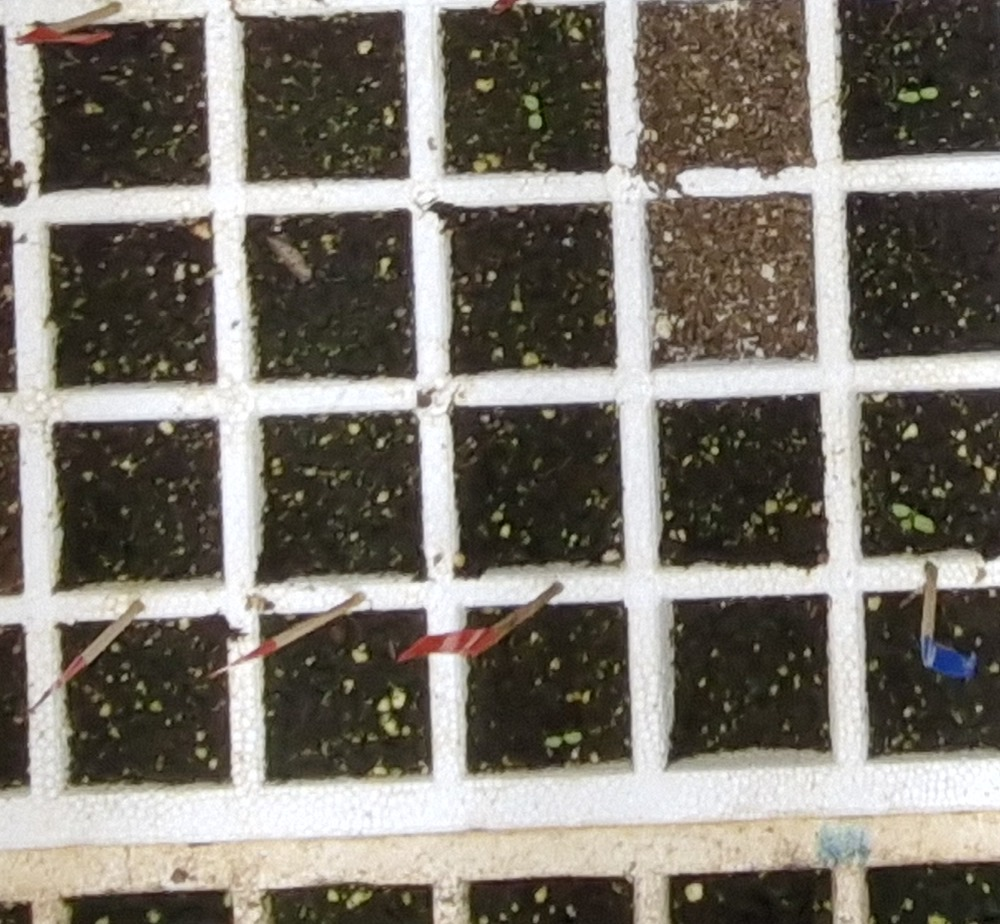Folha: (915, 515, 935, 533), (892, 503, 910, 516), (529, 114, 543, 130), (920, 87, 938, 99), (546, 736, 564, 748), (524, 95, 538, 110), (904, 92, 921, 104), (564, 732, 582, 743), (900, 519, 911, 530)
Germinacao: (893, 502, 936, 534), (525, 96, 547, 129), (545, 731, 582, 748), (904, 87, 939, 102)
